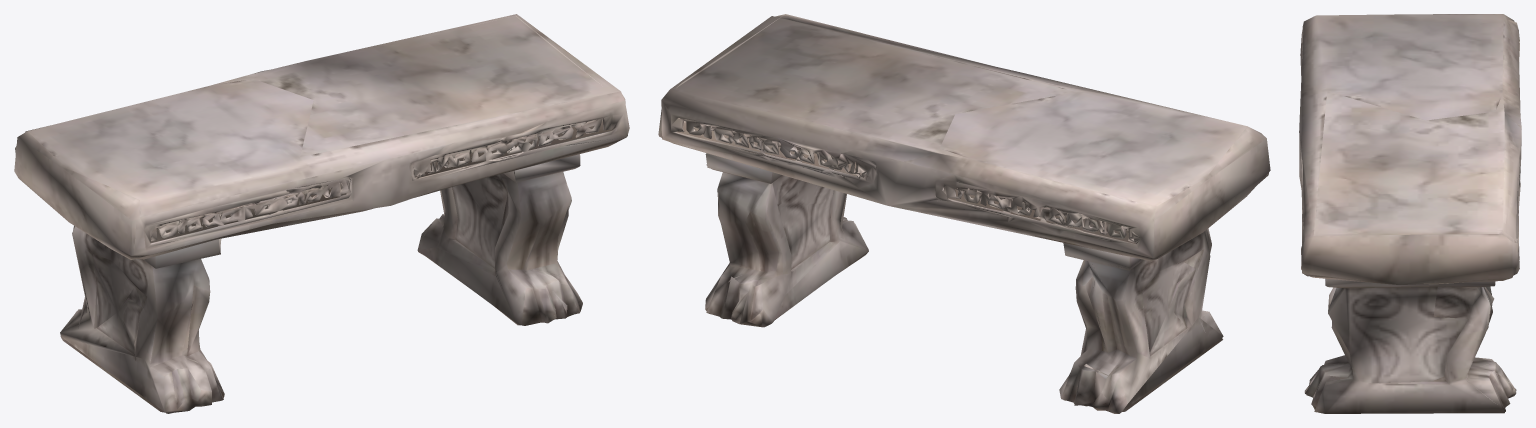
File: decor_bench_t1_marble.trellis.glb
3 renders of one model, left to right at view 1: azimuth 30°, elevation 25°; view 2: azimuth 150°, elevation 25°; view 3: azimuth 270°, elevation 25°, orthographic. The views are drawn at different scales.
Visible parts, largest first — view 1: world; view 2: world; view 3: world.
Part boxes in pixels (x1,y1,x2,y2): world: [14, 14, 629, 413]; world: [658, 14, 1270, 413]; world: [1299, 14, 1521, 413].
Bounding box in the file's own units: 1.49 × 0.629 × 0.6283.
Materials: 1 (1 with a texture image).
